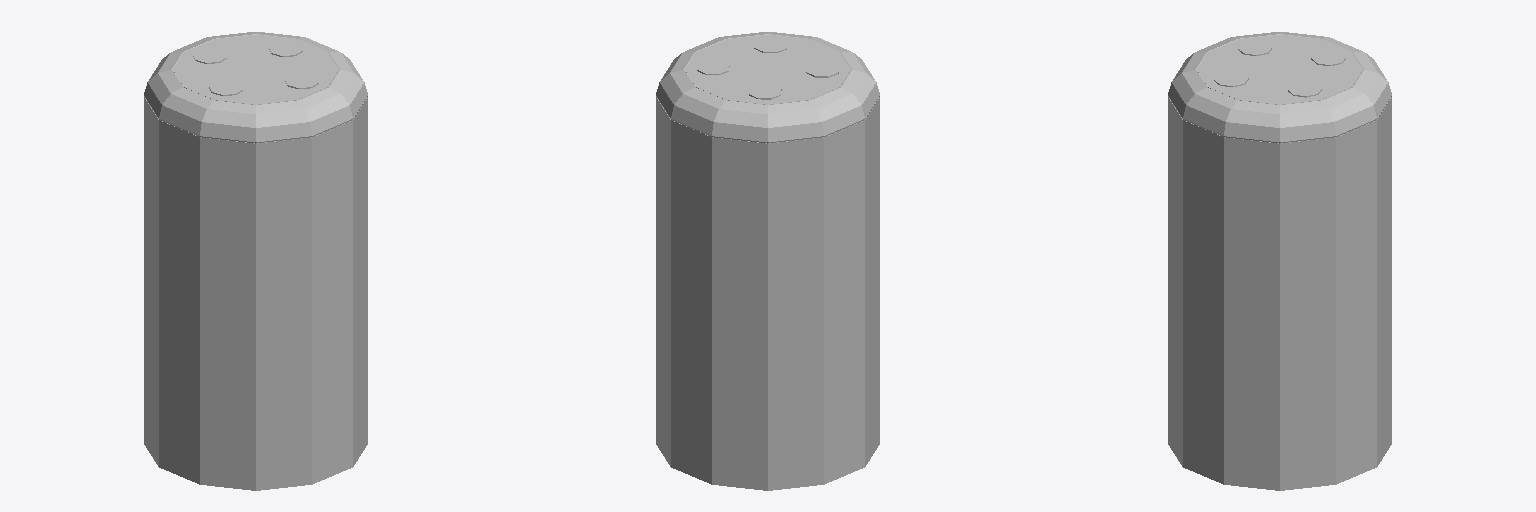
The model's file is Amazob Alexa.obj.
3 renders of one model, left to right at view 1: azimuth 30°, elevation 25°; view 2: azimuth 150°, elevation 25°; view 3: azimuth 270°, elevation 25°, orthographic.
Parts seen in each view (by area): view 1: group[number redacted], group[number redacted], group[number redacted]; view 2: group[number redacted], group[number redacted], group[number redacted]; view 3: group[number redacted], group[number redacted], group[number redacted].
Boxes of the visible parts, box(x1,y1,x2,y2) form: group[number redacted]: box(144, 97, 367, 490); group[number redacted]: box(144, 32, 367, 143); group[number redacted]: box(173, 35, 338, 104); group[number redacted]: box(656, 97, 879, 490); group[number redacted]: box(656, 32, 879, 143); group[number redacted]: box(685, 35, 850, 104); group[number redacted]: box(1168, 97, 1391, 490); group[number redacted]: box(1168, 32, 1391, 143); group[number redacted]: box(1197, 35, 1362, 104).
Bounding box in the file's own units: 0.58 × 1.07 × 0.58.